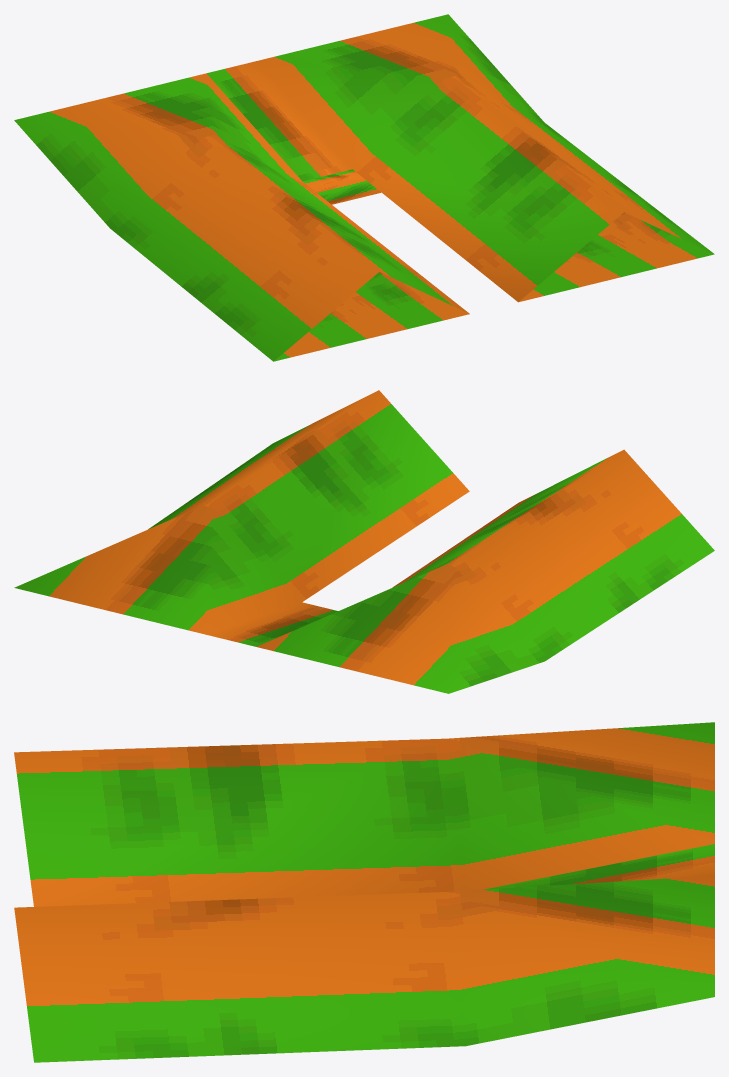
Rendered from 2104pants000_r.gltf.
3 renders of one model, top to bottom at view 1: azimuth 30°, elevation 25°; view 2: azimuth 150°, elevation 25°; view 3: azimuth 270°, elevation 25°, orthographic. The views are drawn at different scales.
Parts seen in each view (by area): view 1: 2104pants000_r; view 2: 2104pants000_r; view 3: 2104pants000_r.
Part boxes in pixels (bbox=[...]): 2104pants000_r: bbox=[14, 14, 714, 361]; 2104pants000_r: bbox=[14, 390, 714, 693]; 2104pants000_r: bbox=[14, 722, 714, 1062].
Bounding box in the file's own units: 0.7793 × 0.1667 × 0.8264.
Materials: 1 (1 with a texture image).
